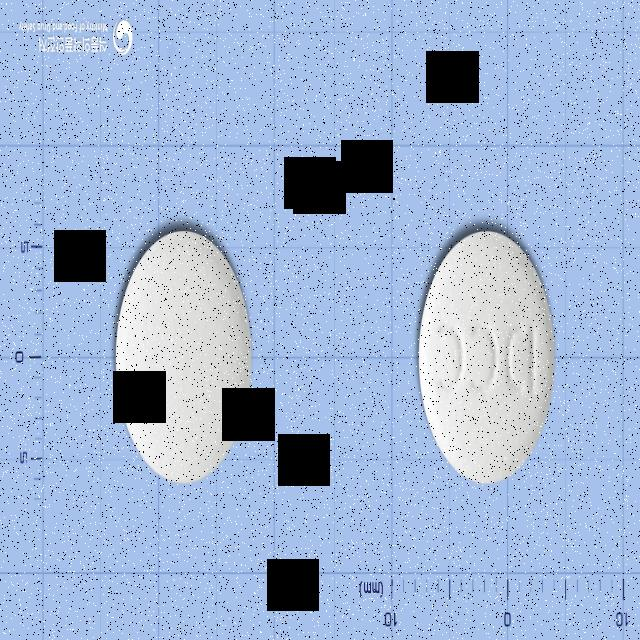Ciproxin -250mg: (110, 222, 253, 493), (412, 225, 558, 489)
